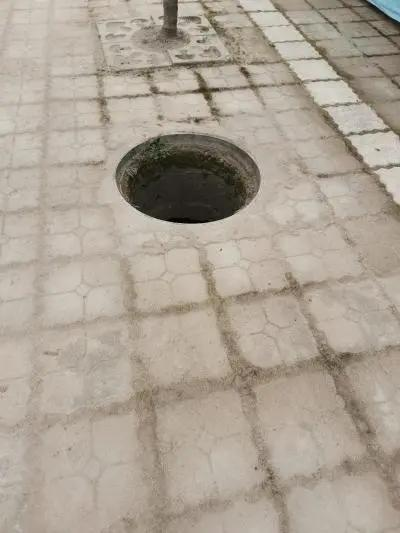wellcover: (95, 121, 276, 230)
